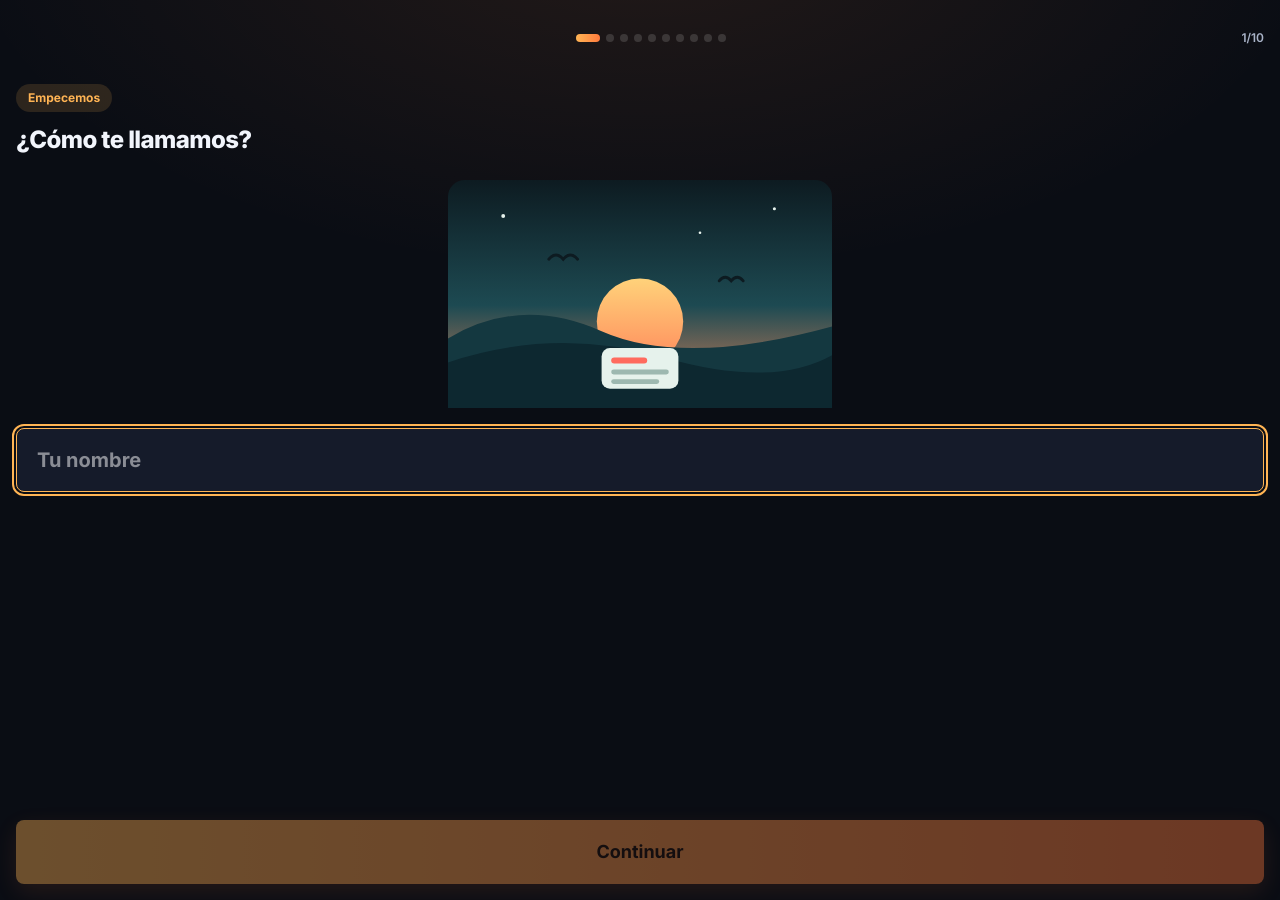
OnboardingScreen › enables Continue when name is 2+ characters
Step 1. Type "An" into the field with placeholder "Tu nombre" → coordinates (640, 460), box [16,428,1264,492]
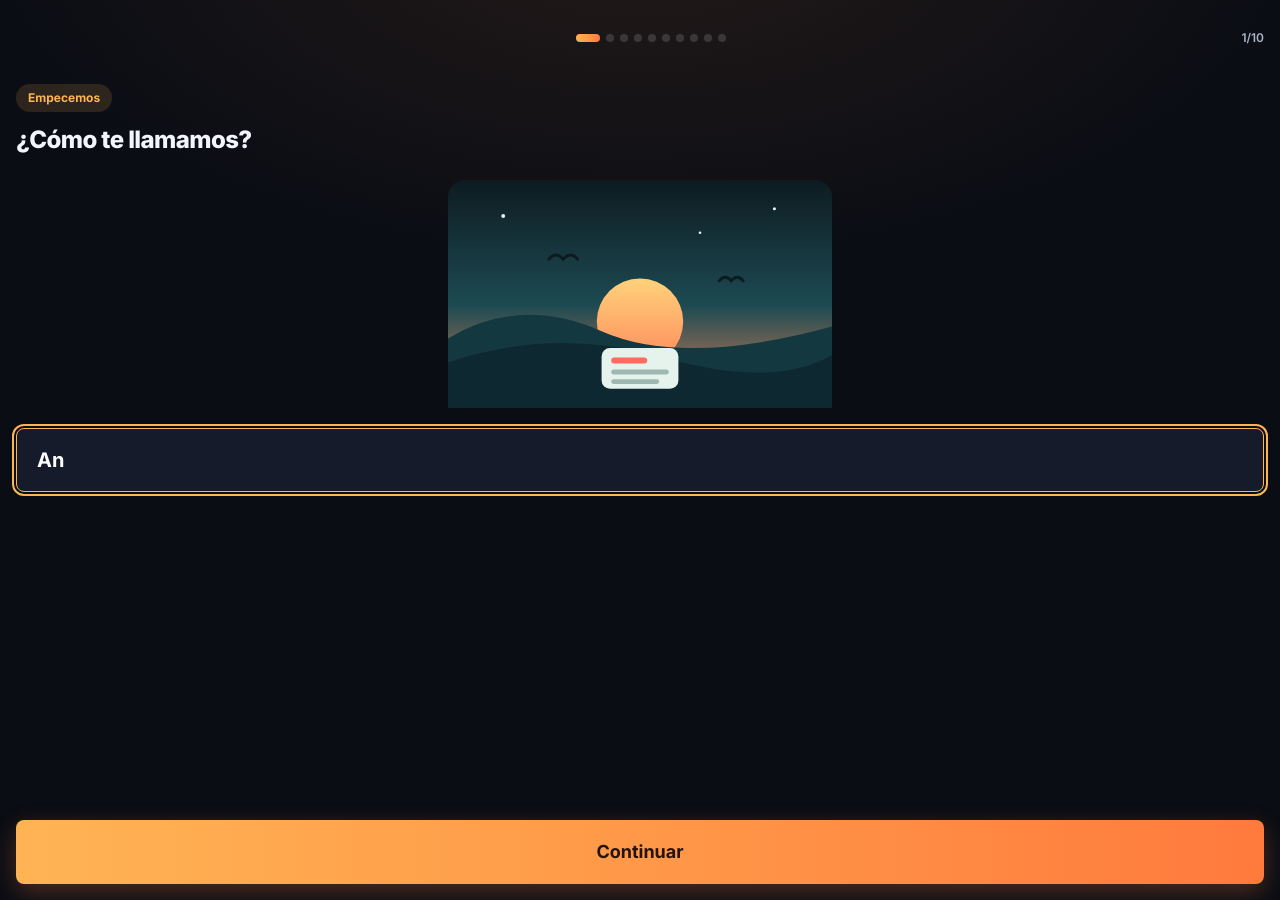
Expected: the button "Continuar" is enabled, [16,820,1264,884]
